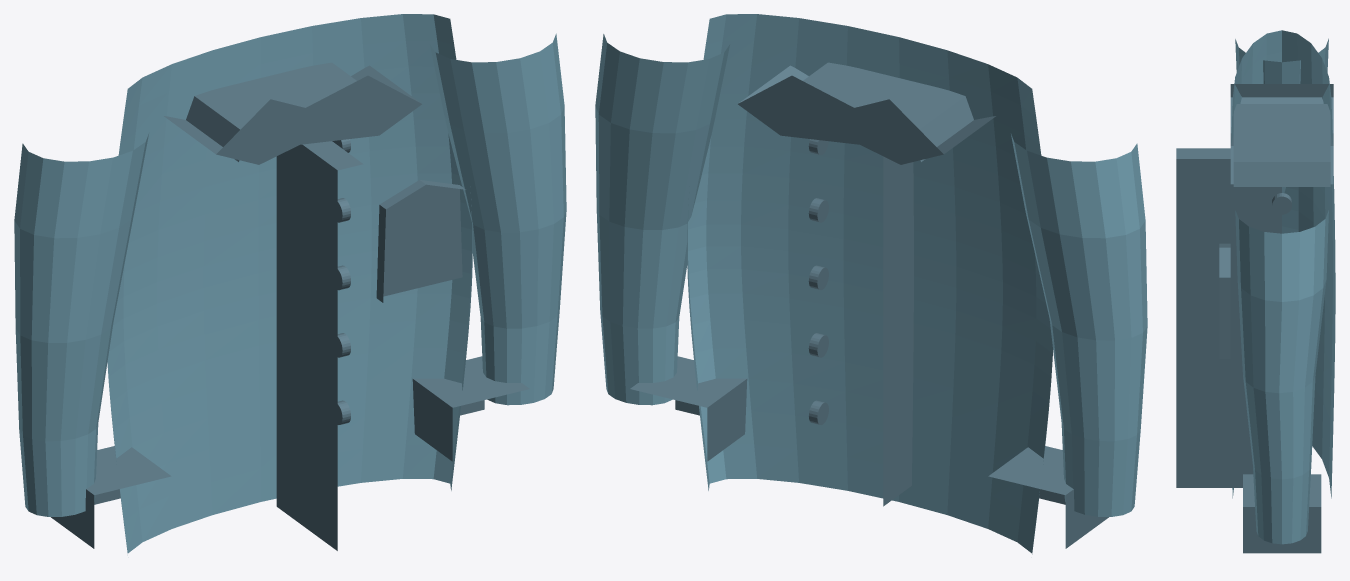
The model's file is shirt.glb.
3 renders of one model, left to right at view 1: azimuth 30°, elevation 25°; view 2: azimuth 150°, elevation 25°; view 3: azimuth 270°, elevation 25°, orthographic. The views are drawn at different scales.
Parts seen in each view (by area): view 1: shirt-0, shirt-1, shirt-2, shirt-7, shirt-5, shirt-8, shirt-6, shirt-4, shirt-3; view 2: shirt-0, shirt-1, shirt-2, shirt-7, shirt-5, shirt-6, shirt-4, shirt-3; view 3: shirt-2, shirt-7, shirt-0, shirt-6, shirt-4, shirt-5, shirt-8, shirt-1, shirt-9.
Boxes of the visible parts, box(x1,y1,x2,y2) form: shirt-0: box(107, 14, 472, 553); shirt-1: box(14, 134, 148, 516); shirt-2: box(429, 33, 566, 405); shirt-7: box(276, 141, 363, 550); shirt-5: box(164, 65, 421, 164); shirt-8: box(376, 180, 465, 302); shirt-6: box(186, 62, 356, 161); shirt-4: box(412, 356, 529, 461); shirt-3: box(51, 446, 171, 548); shirt-0: box(687, 14, 1052, 554); shirt-1: box(1011, 134, 1147, 516); shirt-2: box(595, 34, 730, 405); shirt-7: box(883, 156, 913, 506); shirt-5: box(738, 65, 995, 164); shirt-6: box(803, 62, 973, 161); shirt-4: box(630, 356, 747, 461); shirt-3: box(988, 446, 1108, 548); shirt-2: box(1235, 210, 1328, 544); shirt-7: box(1176, 148, 1281, 487); shirt-0: box(1231, 30, 1335, 498); shirt-6: box(1233, 104, 1330, 186); shirt-4: box(1243, 474, 1321, 553); shirt-5: box(1230, 84, 1333, 184); shirt-8: box(1219, 243, 1230, 358); shirt-1: box(1235, 38, 1328, 192); shirt-9: box(1272, 193, 1291, 214).
Bounding box in the file's own units: 3.78 × 3.1 × 1.11.
